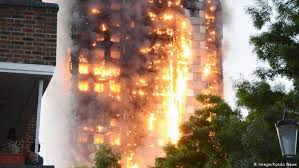fire: (82, 9, 223, 151)
